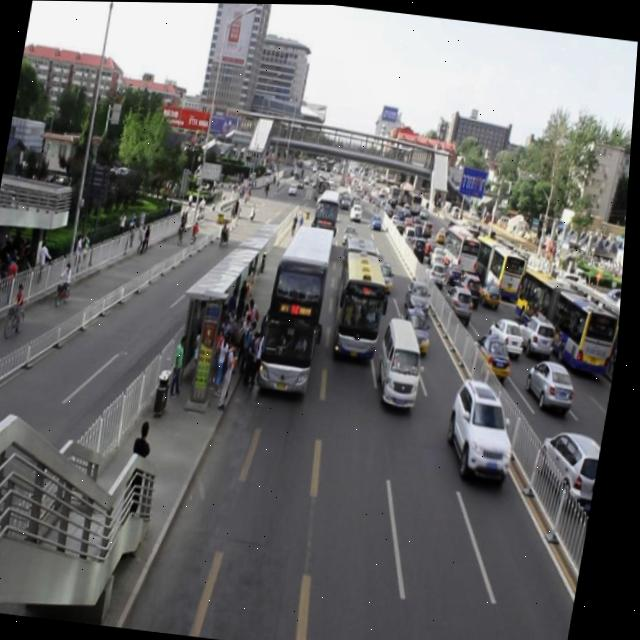car: (444, 375, 526, 484), (400, 304, 437, 351), (405, 277, 436, 316), (374, 255, 397, 293), (342, 223, 361, 245), (351, 200, 365, 221), (372, 211, 385, 230), (341, 188, 353, 207), (316, 191, 329, 208)
truck: (377, 315, 431, 407)
van: (262, 219, 336, 395), (330, 234, 395, 361), (313, 185, 343, 240)
